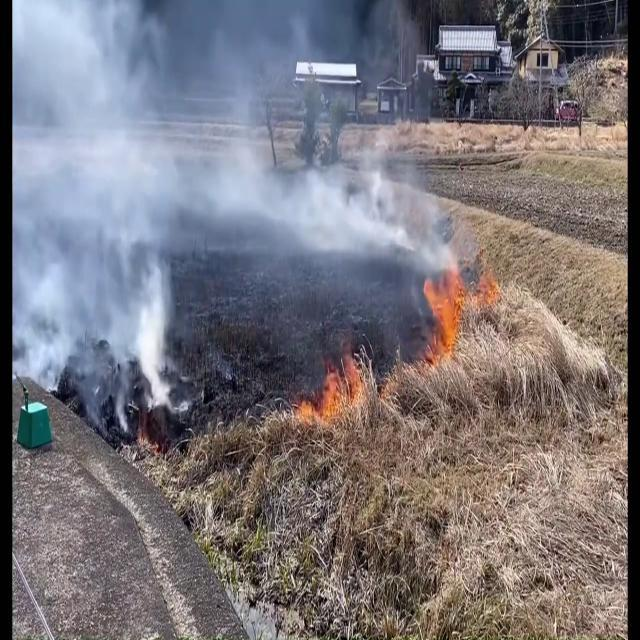Fire: (420, 253, 500, 362), (295, 347, 378, 430)
Smoke: (14, 0, 454, 308), (12, 1, 186, 417)
